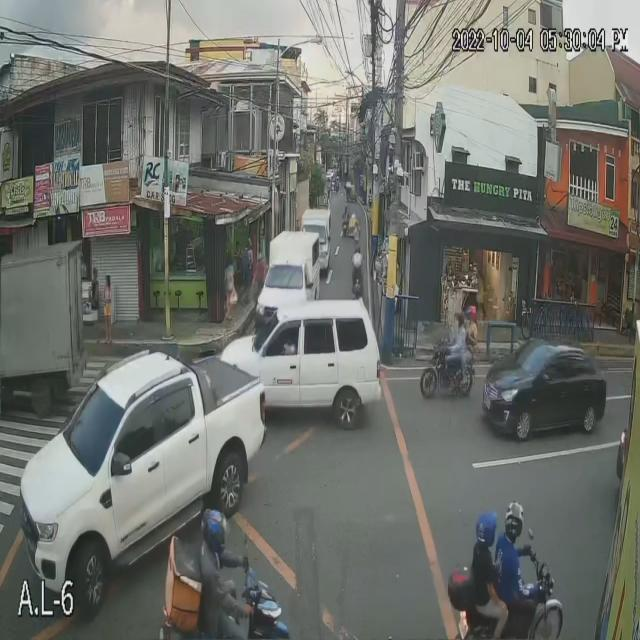full: (200, 507, 230, 554), (504, 501, 524, 544)
half: (476, 512, 498, 549), (453, 309, 465, 328), (466, 304, 476, 323)
